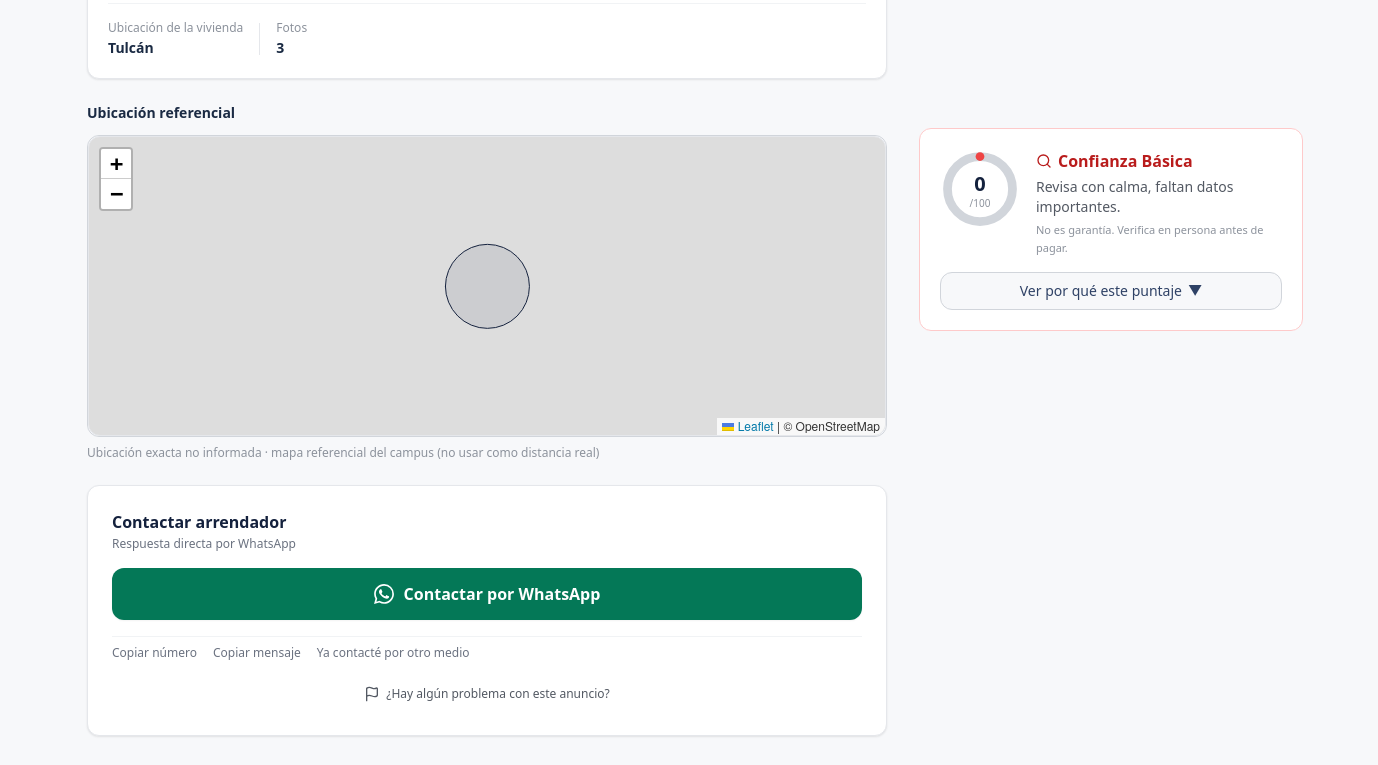
Test: Detalle ramas sin cubrir (contacto, errores, fallbacks) › Ya contacté por otro medio marca y oculta la acción
(page scrolled)
Click the button "Ya contacté por otro medio" at {"x": 393, "y": 653}, box [317,641,470,665]
(page scrolled)
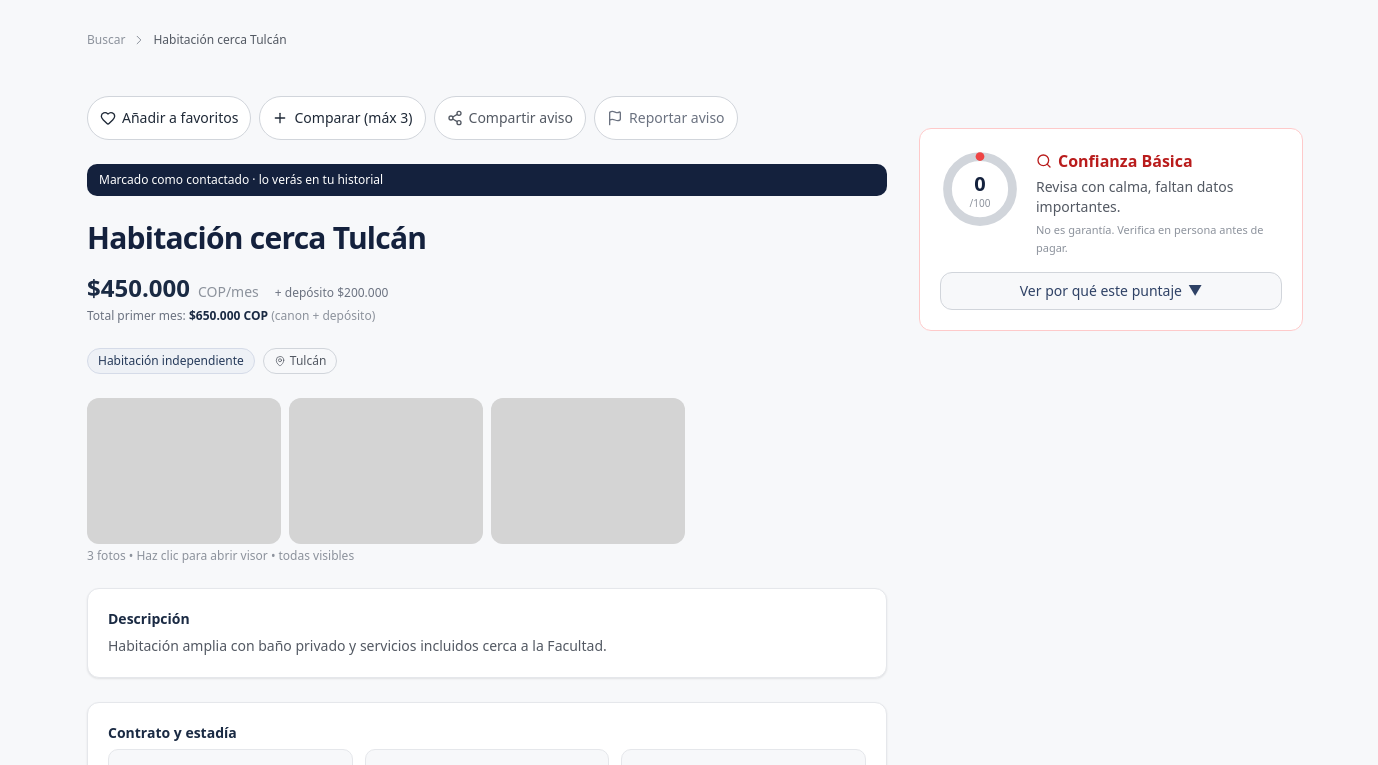
Expected: the text "Marcado como contactado · lo verás en tu historial" is shown, [99,172,383,188]
Expected: the button "Ya contacté por otro medio" is gone
